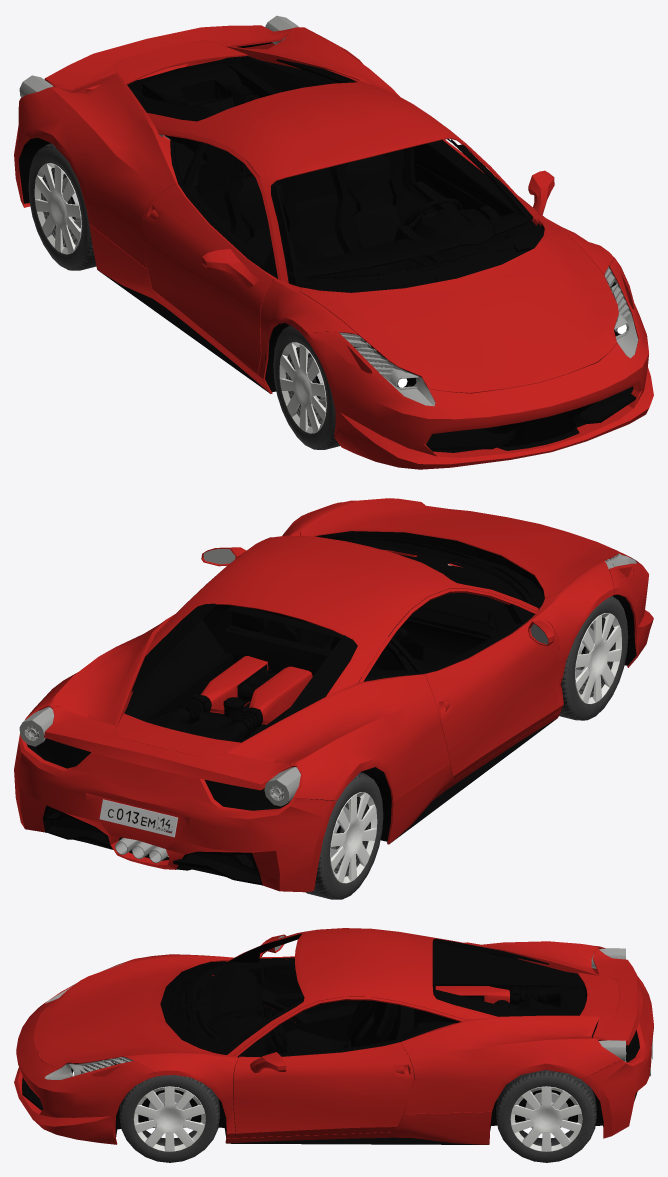
Rendered from A23DMOD_FBX.fbx.
3 views of the same model, one above another, from view 1: azimuth 30°, elevation 25°; view 2: azimuth 150°, elevation 25°; view 3: azimuth 270°, elevation 25° (orthographic). The views are drawn at different scales.
Parts seen in each view (by area): view 1: A23DOBJ_001; view 2: A23DOBJ_001; view 3: A23DOBJ_001.
Part boxes in pixels (left/top/right/bottom): A23DOBJ_001: left=14, top=15, right=653, bottom=469; A23DOBJ_001: left=14, top=498, right=653, bottom=899; A23DOBJ_001: left=14, top=928, right=653, bottom=1162.
Size of the model in its own units: 218 by 121 by 451.
Materials: 11 (11 with a texture image).
